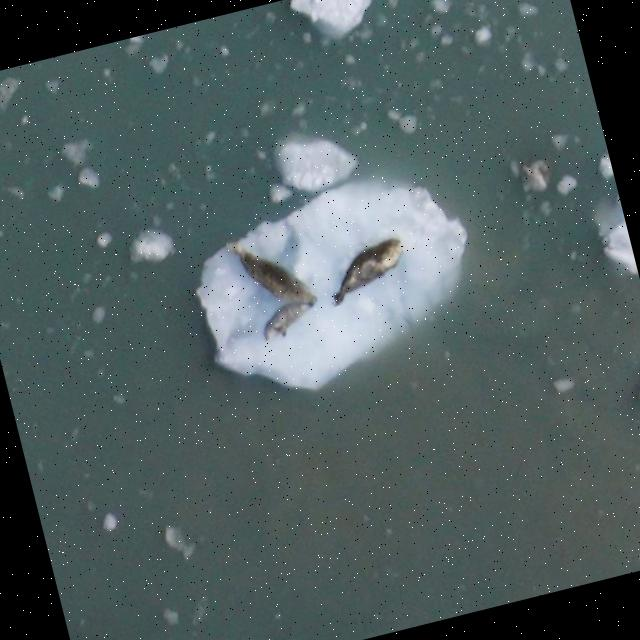seal: (215, 232, 322, 319), (316, 229, 411, 307), (254, 286, 314, 350)
